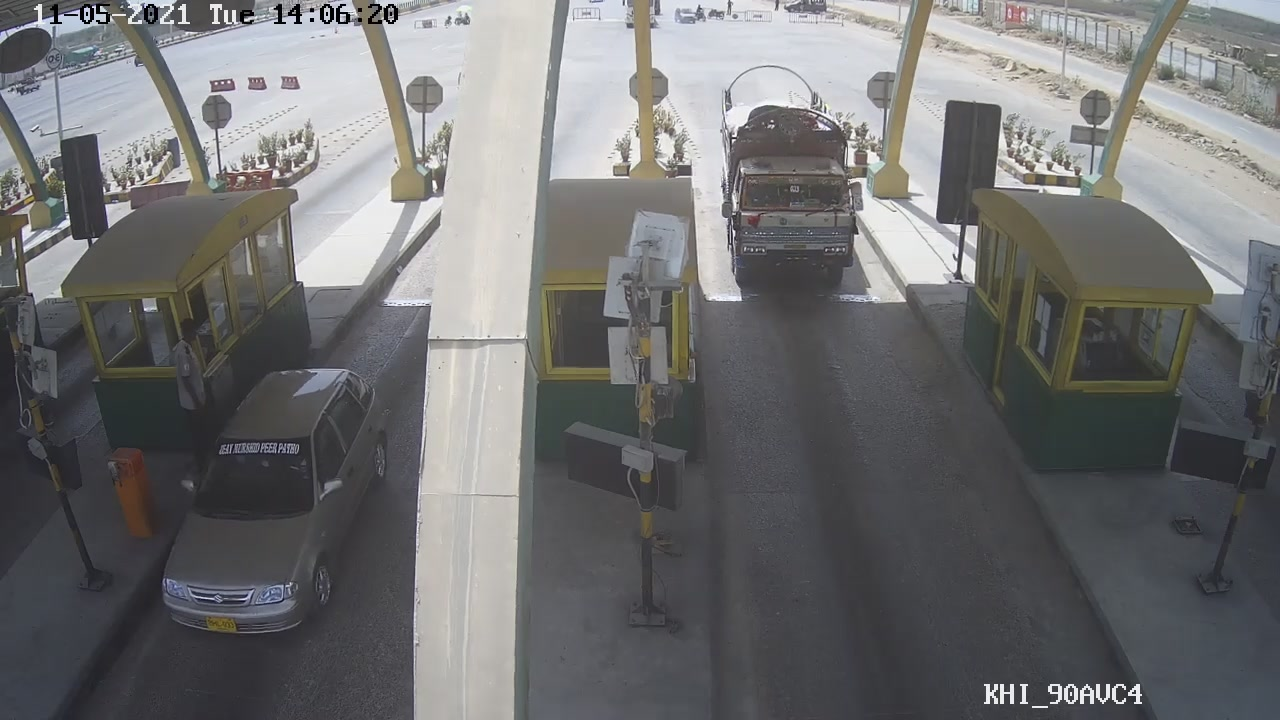F5: (711, 59, 871, 310)
